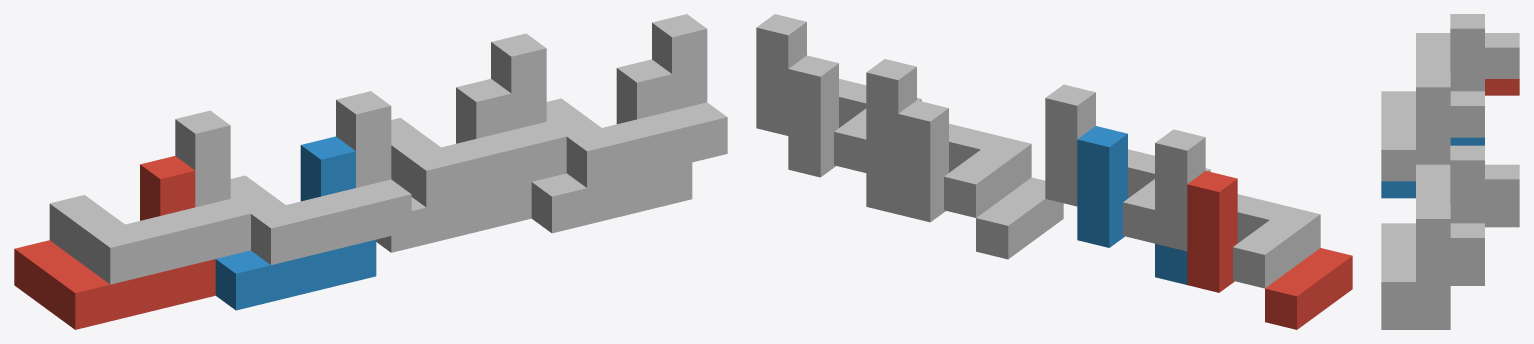
The model's file is tiling.obj.
3 renders of one model, left to right at view 1: azimuth 30°, elevation 25°; view 2: azimuth 150°, elevation 25°; view 3: azimuth 270°, elevation 25°, orthographic. The views are drawn at different scales.
Visible parts, largest first — view 1: copy_1_domain_3, copy_1_domain_7, copy_1_domain_8, copy_1_domain_4, copy_1_domain_1, copy_1_domain_2, copy_1_domain_6, copy_1_domain_5; view 2: copy_1_domain_3, copy_1_domain_7, copy_1_domain_1, copy_1_domain_5, copy_1_domain_8, copy_1_domain_4, copy_1_domain_2, copy_1_domain_6; view 3: copy_1_domain_8, copy_1_domain_4, copy_1_domain_7, copy_1_domain_3, copy_1_domain_6, copy_1_domain_2, copy_1_domain_5, copy_1_domain_1.
Part boxes in pixels (bbox=[...]): copy_1_domain_3: bbox=[49, 110, 250, 284]; copy_1_domain_7: bbox=[391, 33, 566, 207]; copy_1_domain_8: bbox=[546, 14, 727, 187]; copy_1_domain_4: bbox=[230, 91, 411, 265]; copy_1_domain_1: bbox=[14, 156, 215, 329]; copy_1_domain_2: bbox=[215, 136, 376, 310]; copy_1_domain_6: bbox=[531, 59, 692, 233]; copy_1_domain_5: bbox=[376, 79, 531, 252]; copy_1_domain_3: bbox=[1155, 129, 1320, 288]; copy_1_domain_7: bbox=[866, 59, 1031, 217]; copy_1_domain_1: bbox=[1187, 171, 1352, 329]; copy_1_domain_5: bbox=[898, 100, 1063, 259]; copy_1_domain_8: bbox=[756, 14, 921, 172]; copy_1_domain_4: bbox=[1045, 84, 1210, 243]; copy_1_domain_2: bbox=[1077, 126, 1187, 284]; copy_1_domain_6: bbox=[788, 55, 898, 214]; copy_1_domain_8: bbox=[1381, 204, 1484, 313]; copy_1_domain_4: bbox=[1381, 72, 1484, 181]; copy_1_domain_7: bbox=[1416, 145, 1519, 223]; copy_1_domain_3: bbox=[1416, 14, 1519, 91]; copy_1_domain_6: bbox=[1381, 269, 1484, 329]; copy_1_domain_2: bbox=[1381, 137, 1484, 198]; copy_1_domain_5: bbox=[1485, 210, 1519, 227]; copy_1_domain_1: bbox=[1485, 79, 1519, 95].
Size of the model in its own units: 18 by 4 by 4.
